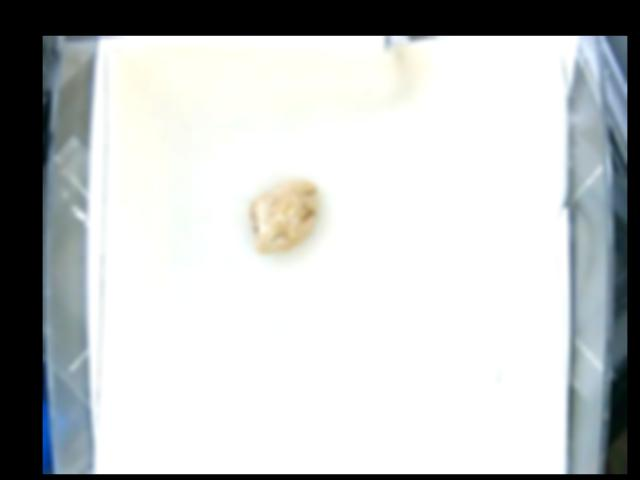Pebble: (250, 180, 319, 252)
